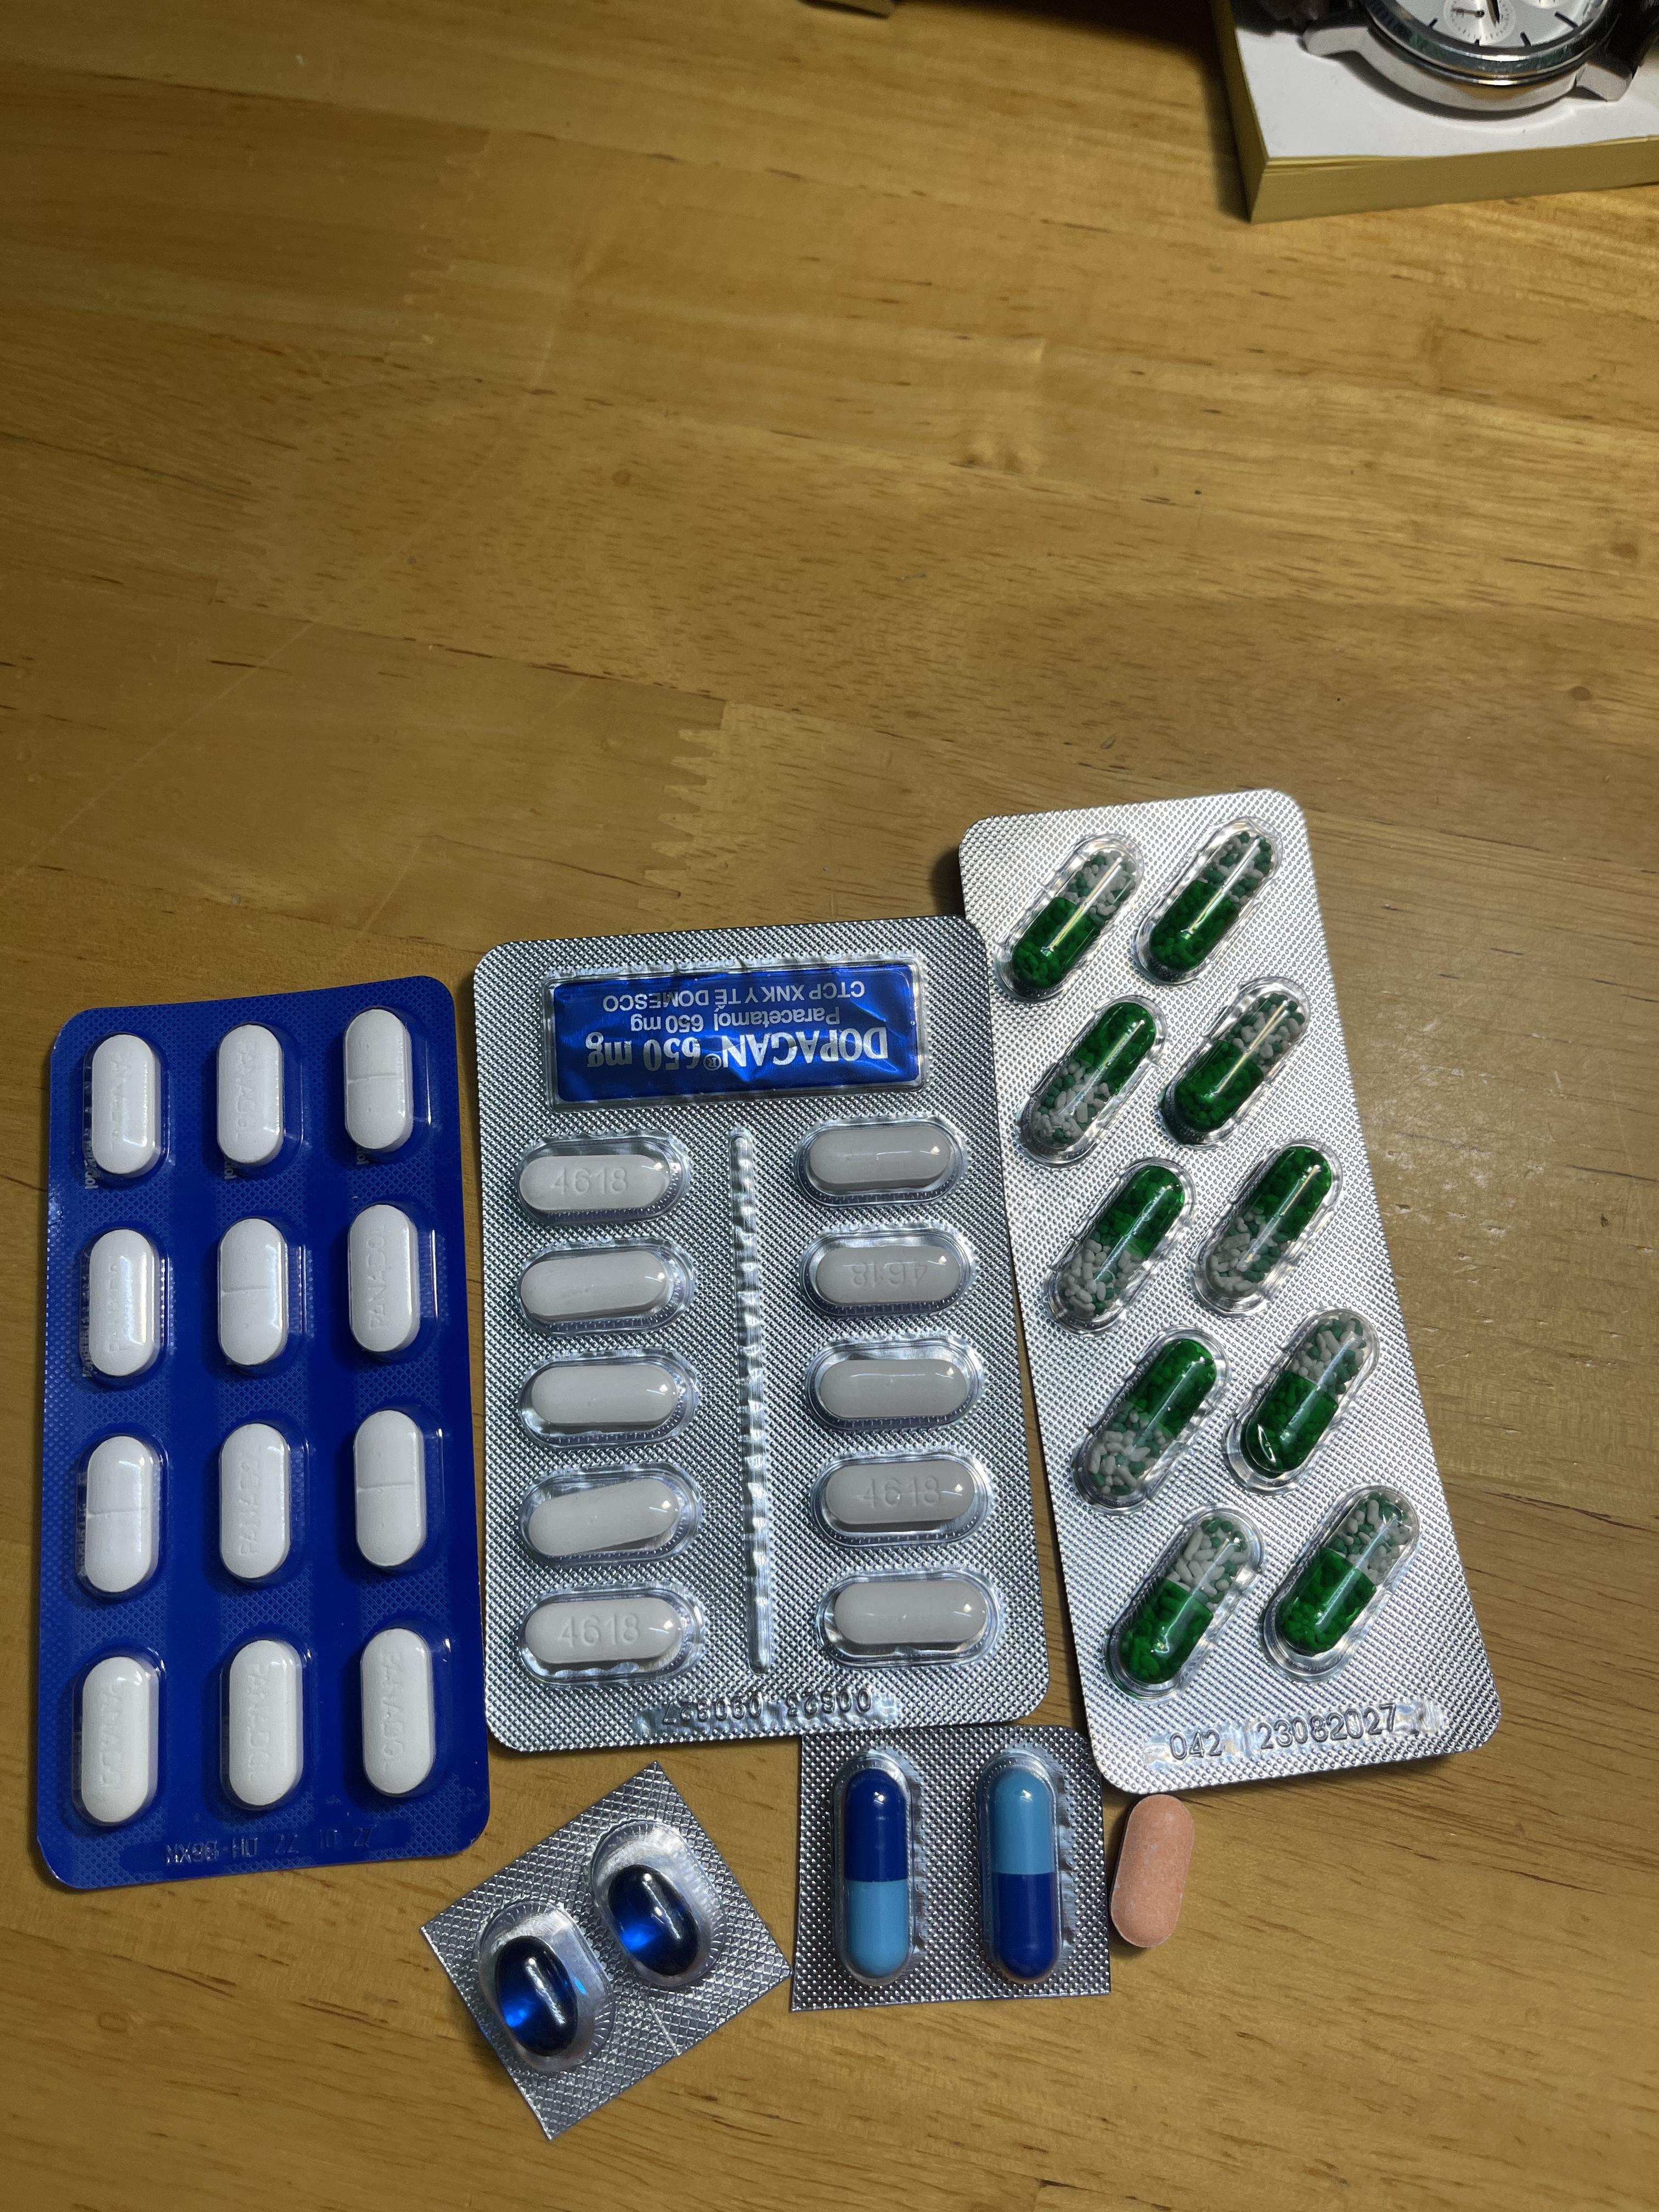Lincomyxin_500mg: (608, 1864, 702, 1973), (495, 1939, 584, 2050)
Loratadine_10mg: (1110, 1794, 1195, 1949)
Paracetamol_350mg: (75, 1649, 160, 1829), (221, 1635, 305, 1815), (77, 1433, 164, 1601), (359, 1627, 437, 1799), (216, 1421, 296, 1587), (350, 1409, 430, 1573), (84, 1228, 164, 1385), (216, 1217, 295, 1374), (345, 1205, 423, 1359), (87, 1035, 164, 1183), (214, 1024, 288, 1170), (343, 1010, 415, 1155)
Paracetamol_500mg: (516, 1465, 697, 1561), (518, 1587, 702, 1677), (816, 1569, 997, 1660), (812, 1449, 993, 1540), (805, 1336, 983, 1428), (516, 1350, 697, 1435), (511, 1134, 687, 1221), (802, 1226, 974, 1313), (789, 1116, 965, 1202), (514, 1242, 690, 1327)
Paracetamol_650mg: (1162, 979, 1312, 1146), (1236, 1308, 1378, 1480), (1079, 1332, 1222, 1505), (1197, 1141, 1342, 1310), (1053, 1160, 1190, 1327), (1018, 998, 1159, 1160), (1140, 820, 1279, 984), (1121, 1514, 1253, 1681), (1000, 834, 1138, 995), (1279, 1491, 1413, 1655)
pill: (985, 1757, 1061, 1975), (840, 1764, 913, 1979)
